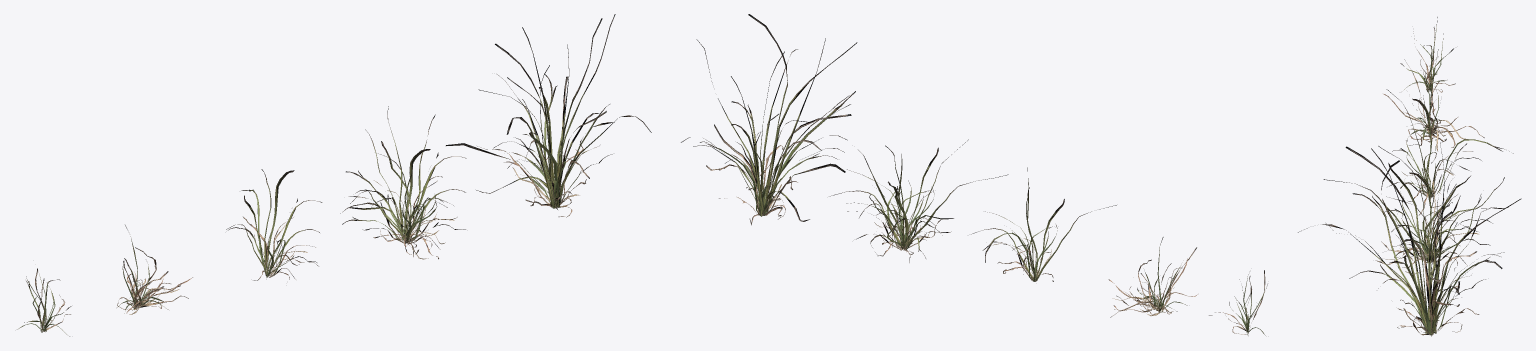
Rendered from ornamental-grass.glb.
The picture shows the model from 3 angles, left to right: view 1: azimuth 30°, elevation 25°; view 2: azimuth 150°, elevation 25°; view 3: azimuth 270°, elevation 25°; orthographic projection. The views are drawn at different scales.
Visible parts, largest first — view 1: grass_medium_02_a; view 2: grass_medium_02_a; view 3: grass_medium_02_a.
Part boxes in pixels (box(x1,y1,x2,y2)): grass_medium_02_a: box(17, 14, 651, 336); grass_medium_02_a: box(681, 14, 1267, 335); grass_medium_02_a: box(1298, 17, 1521, 336).
Size of the model in its own units: 1.31 by 0.4053 by 0.4333.
Materials: 1 (1 with a texture image).
